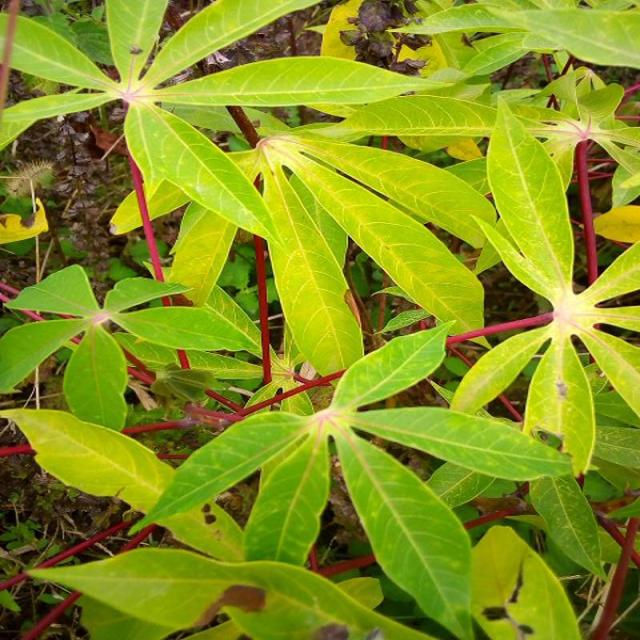cassava leaf: (0, 1, 638, 637), (484, 94, 574, 301)
